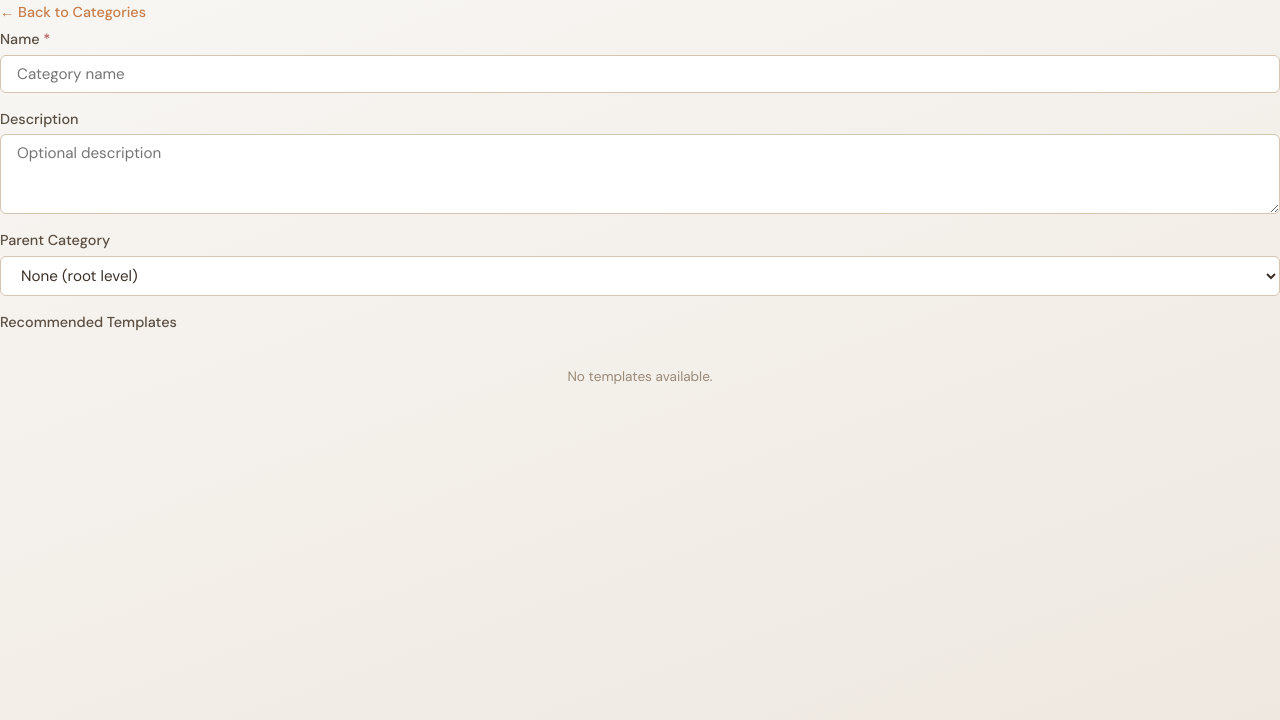
Scenario: CategoryManagerForm › validation › should show error for reserved name "Unassigned Items" on submit
Type "Unassigned Items" into the field labelled "Name *" at point(640, 74), box [0, 55, 1279, 93]
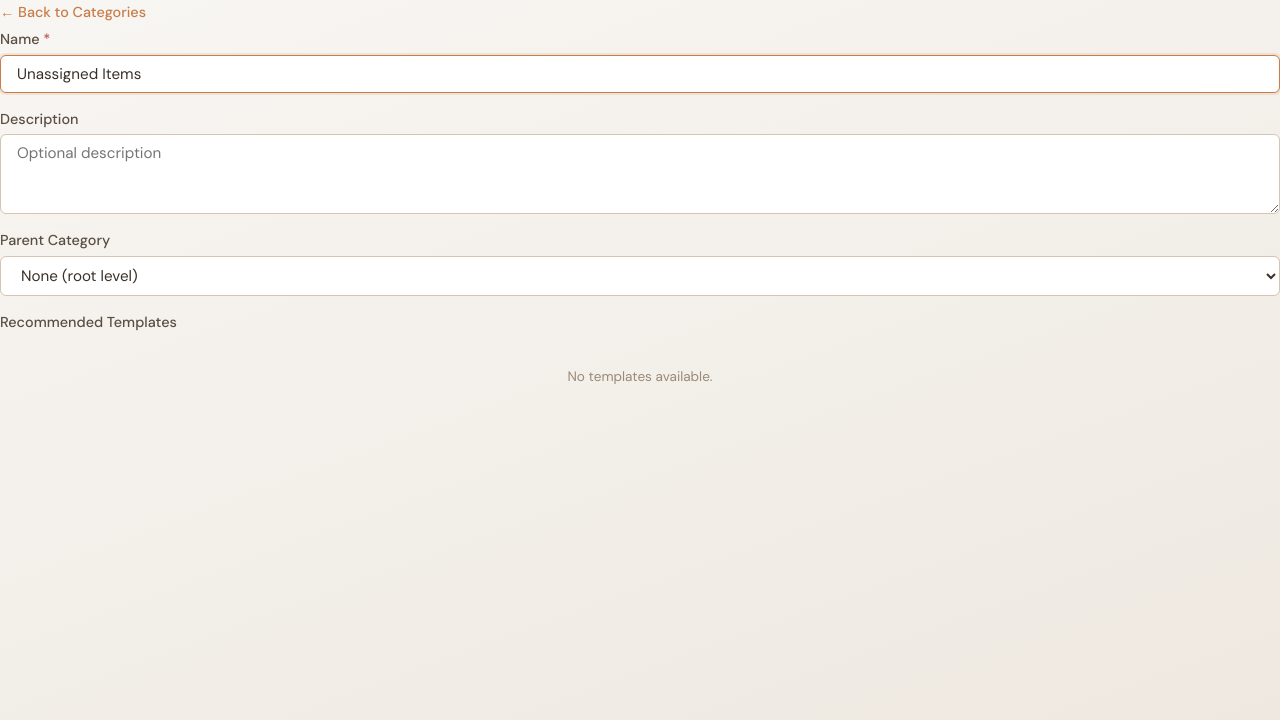
Submit the form named "Category details", box [0, 29, 1279, 417]
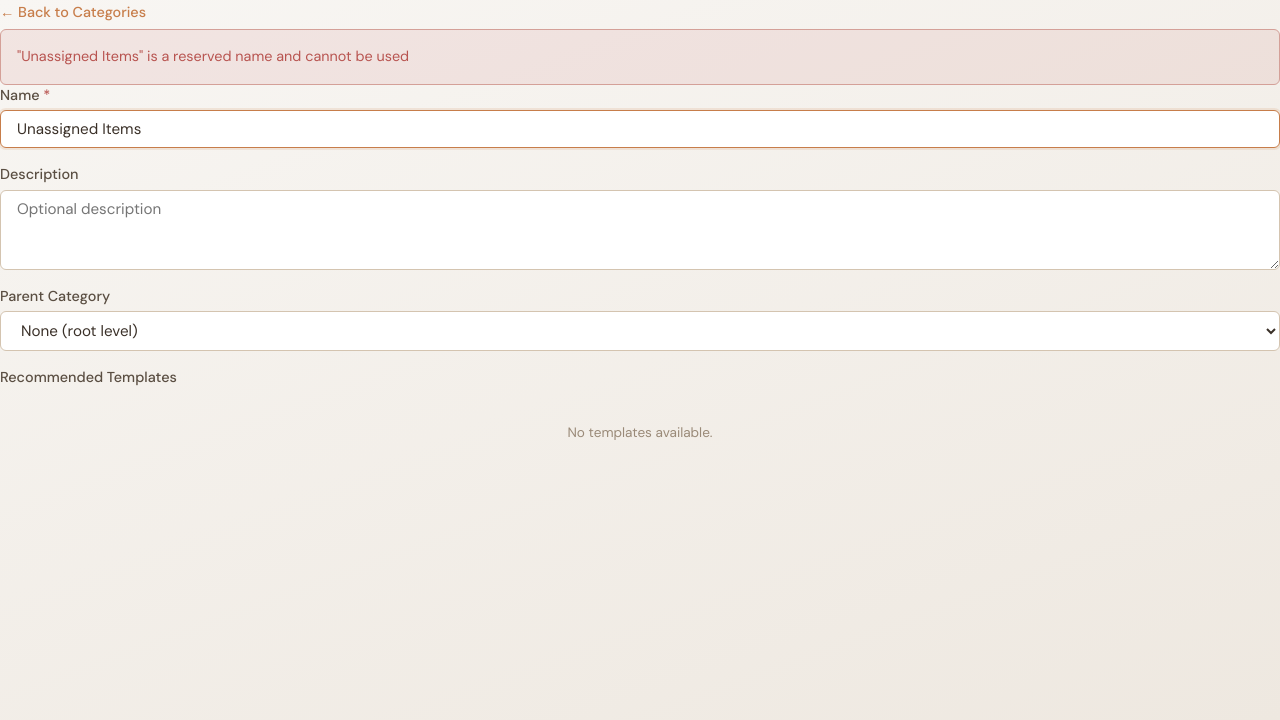
expect the message reads "\"Unassigned Items\" is a reserved name and cannot be used": met, box [17, 47, 409, 65]
